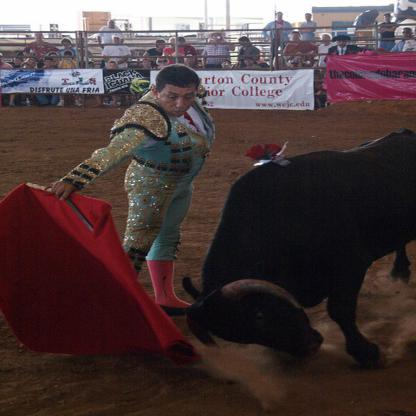face: (159, 85, 197, 117), (274, 58, 285, 69), (158, 59, 168, 68), (186, 58, 195, 67), (337, 40, 347, 48), (213, 34, 223, 42), (403, 30, 412, 38), (292, 34, 300, 42), (178, 38, 185, 47), (245, 60, 255, 66), (384, 15, 392, 22), (324, 36, 331, 44), (309, 53, 316, 61), (223, 62, 231, 69), (198, 59, 205, 67), (171, 40, 178, 48), (158, 42, 166, 49), (143, 60, 151, 67), (109, 21, 116, 29), (109, 64, 117, 71), (36, 33, 43, 41), (50, 55, 58, 62), (46, 60, 54, 67), (28, 61, 36, 68), (15, 59, 22, 67), (240, 41, 247, 48), (114, 37, 120, 45), (64, 41, 70, 49), (296, 57, 303, 63), (66, 55, 72, 62), (78, 40, 84, 47), (349, 48, 355, 54), (284, 56, 291, 61), (396, 9, 402, 14), (277, 15, 283, 20), (39, 57, 45, 62), (409, 8, 414, 13), (306, 16, 311, 21)
